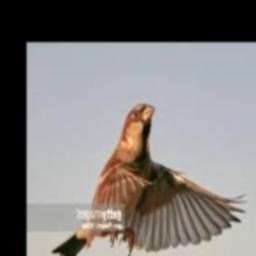Sparrow: (52, 103, 247, 256)
